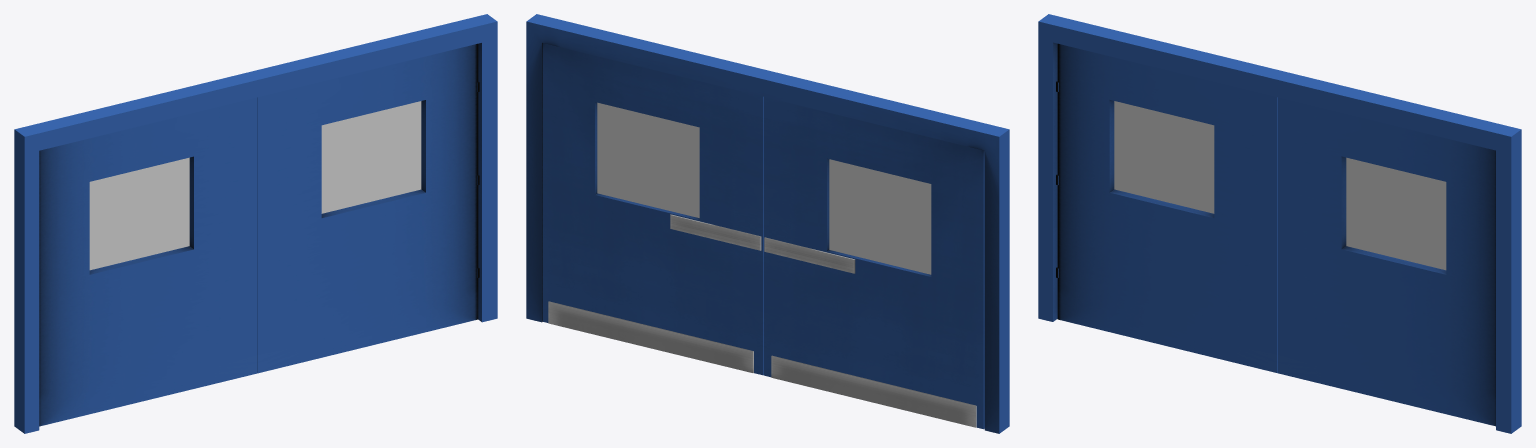
File: Puerta restringida.FBX
The picture shows the model from 3 angles, left to right: view 1: azimuth 30°, elevation 25°; view 2: azimuth 150°, elevation 25°; view 3: azimuth 330°, elevation 25°; orthographic projection.
Parts seen in each view (by area): view 1: Puerta003, Puerta004, Puerta_Zona restringida, glass003, glass004; view 2: Puerta004, Puerta003, Puerta_Zona restringida, glass003, glass004, Box026, Box024, Box023, Box025; view 3: Puerta004, Puerta003, Puerta_Zona restringida, glass004, glass003.
Part boxes in pixels (<box>): Puerta003: <box>257,43,479,373</box>; Puerta004: <box>39,97,257,426</box>; Puerta_Zona restringida: <box>14,14,497,433</box>; glass003: <box>321,101,421,213</box>; glass004: <box>89,157,189,270</box>; Puerta004: <box>763,97,984,429</box>; Puerta003: <box>542,43,763,375</box>; Puerta_Zona restringida: <box>526,14,1009,433</box>; glass003: <box>597,102,699,217</box>; glass004: <box>829,159,931,274</box>; Box026: <box>771,355,976,427</box>; Box024: <box>548,301,753,372</box>; Box023: <box>670,214,761,250</box>; Box025: <box>764,237,855,273</box>; Puerta004: <box>1056,43,1277,373</box>; Puerta003: <box>1278,97,1495,426</box>; Puerta_Zona restringida: <box>1038,14,1521,433</box>; glass004: <box>1114,101,1214,213</box>; glass003: <box>1346,157,1446,270</box>.
Bounding box in the file's own units: 400 × 240 × 15.92.
1 material, 1 textured.
